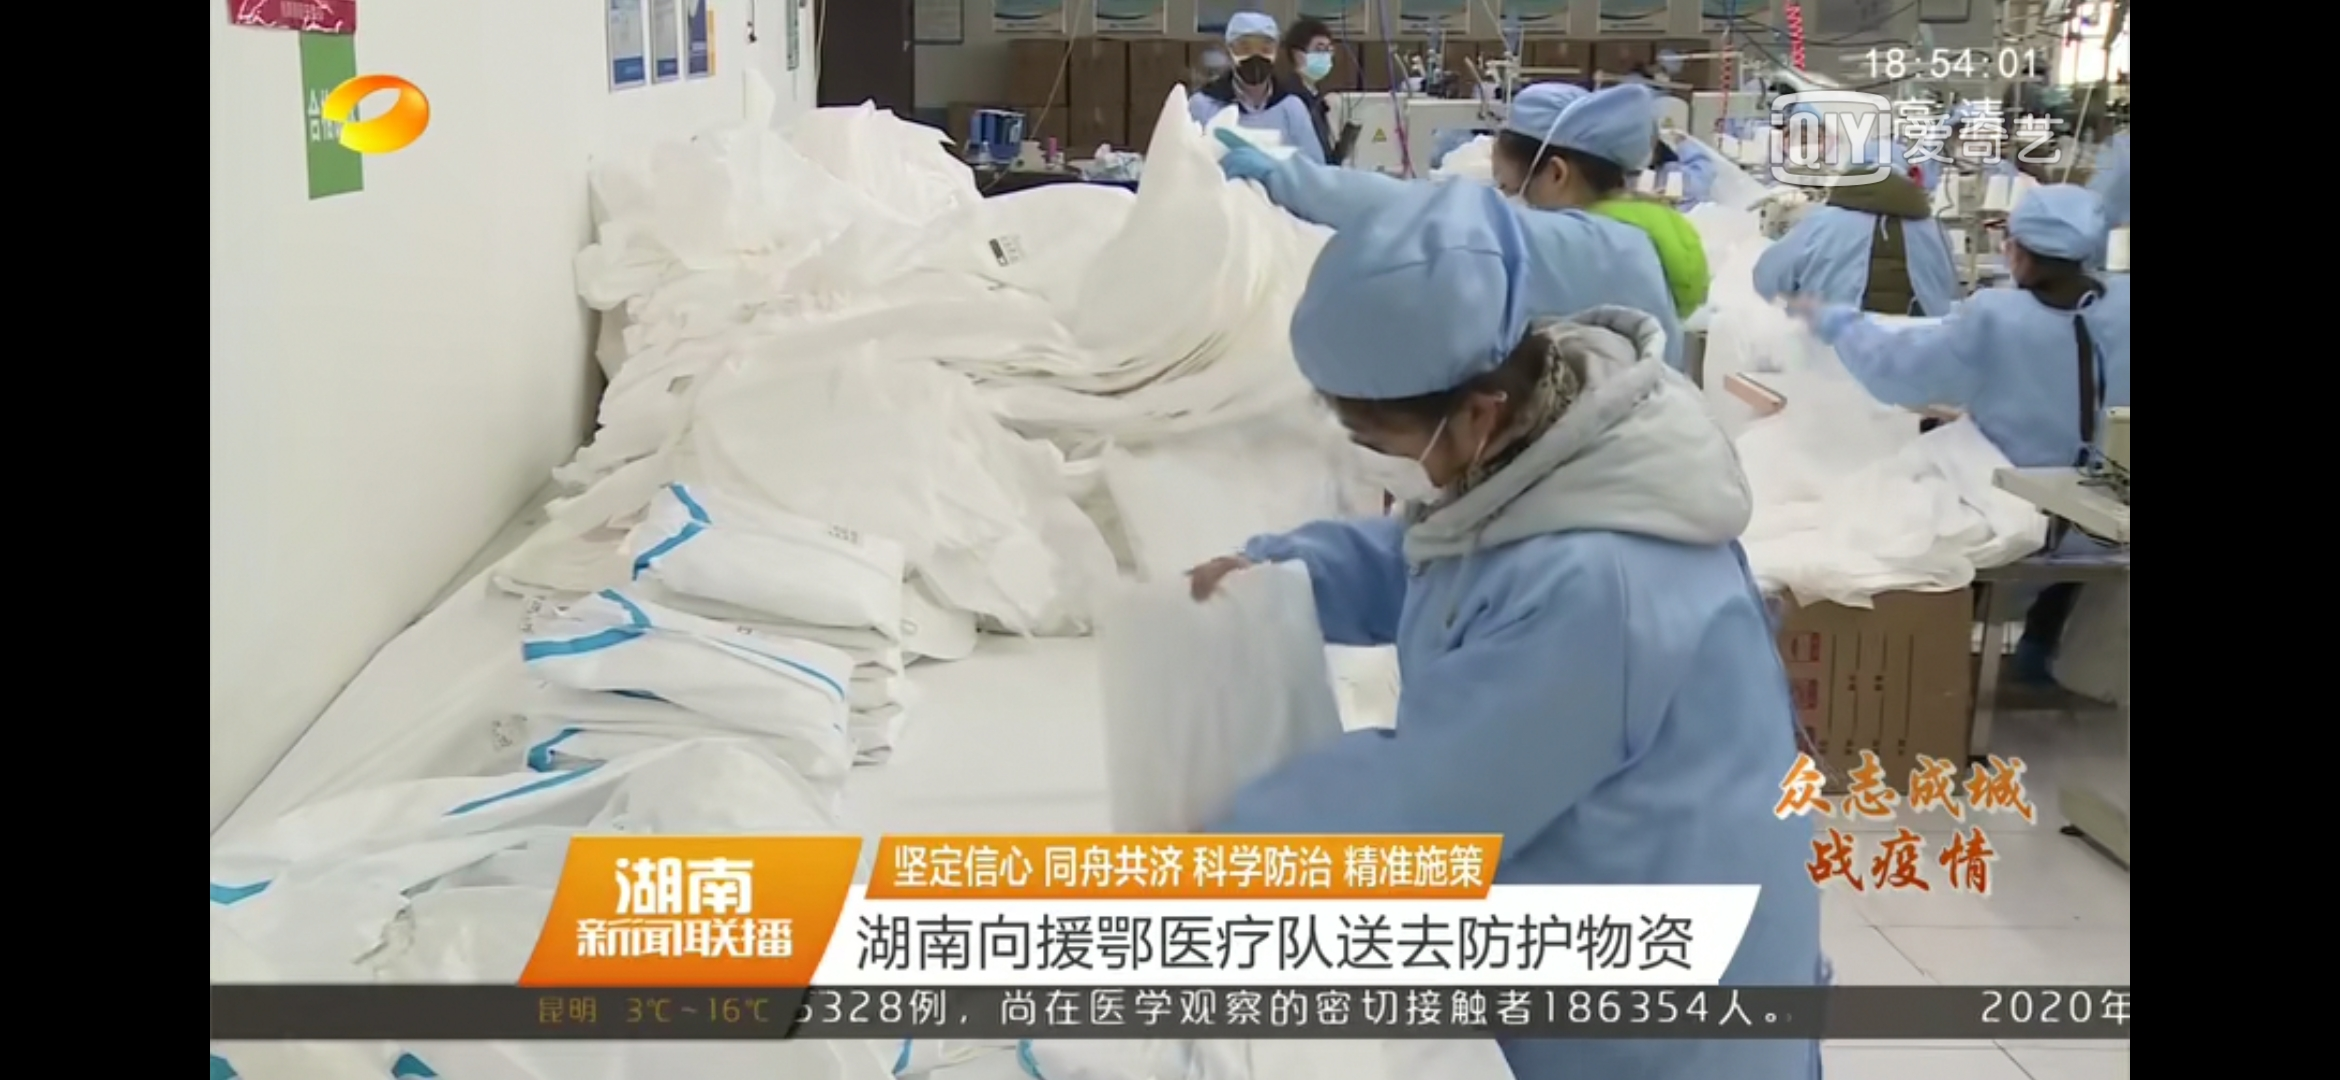correctlyWear: (1324, 368, 1498, 500), (1224, 30, 1279, 85), (1292, 34, 1336, 79)
